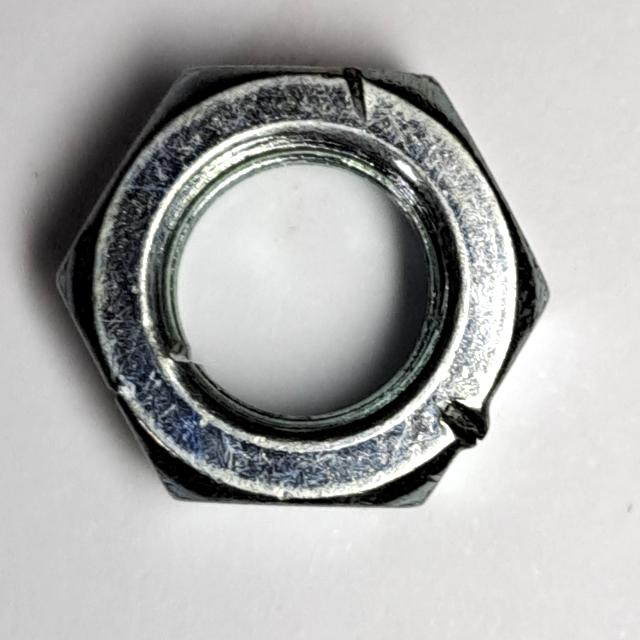Scratches: (43, 46, 560, 528)
